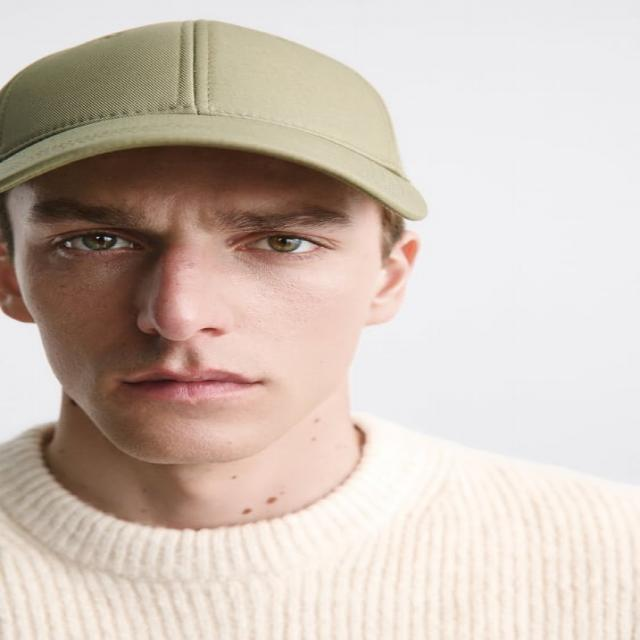Cap: (0, 10, 498, 227)
